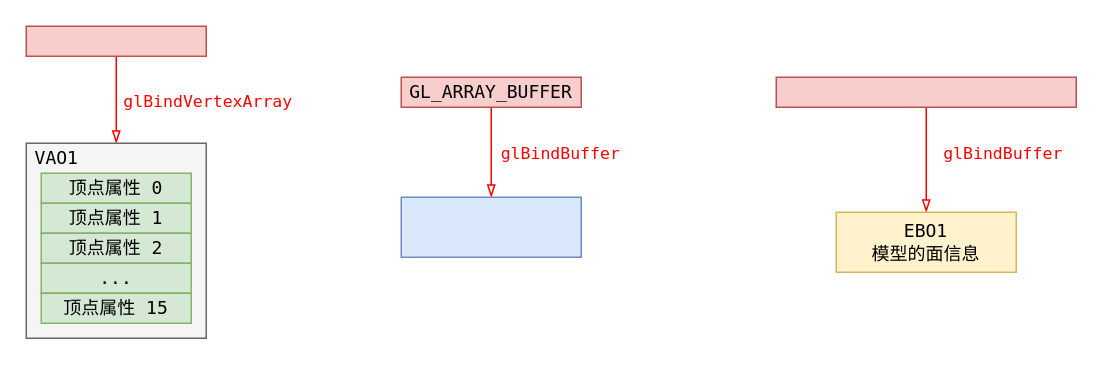
Some shapes in this 1103 by 365 pixel diagram are drawn without their labels. Here are the shapes that lost their labels. From the top down, the centre of each, then its label:
point (115, 40): _GL_VERTEX_ARRAY
point (925, 91): GL_ELEMENT_ARRAY_BUFFER
point (490, 226): VBO2 mesh的normal
